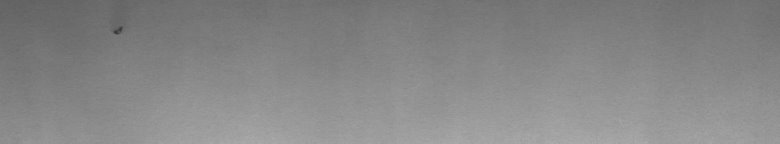fi: (111, 24, 124, 40)
